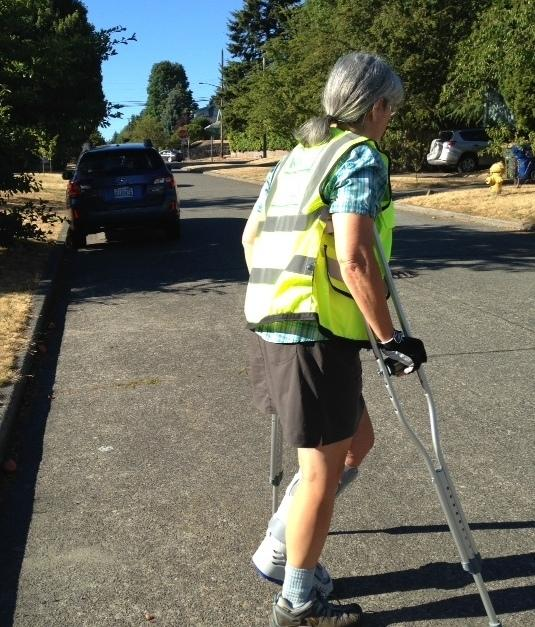crutches: (243, 53, 503, 627)
